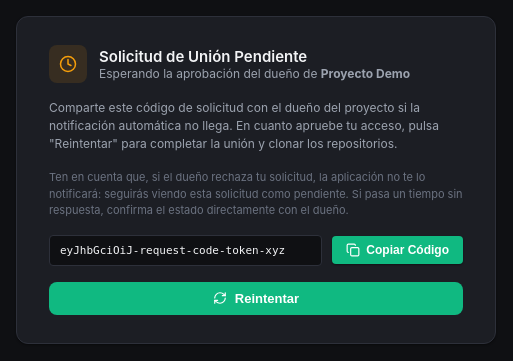
JoinRequestPending › copia el código de solicitud al portapapeles y muestra feedback
Click the button "Copiar Código". click: (398, 250)
box: [332,236,463,264]
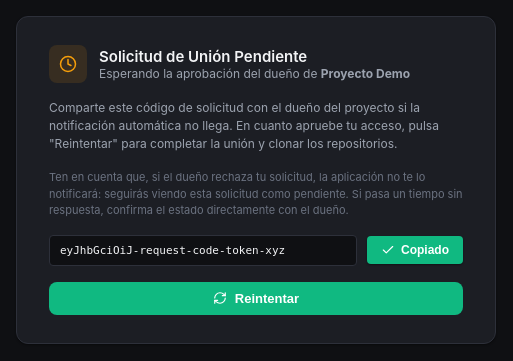
Expected: the button "Copiado" is shown, [367,236,463,264]
